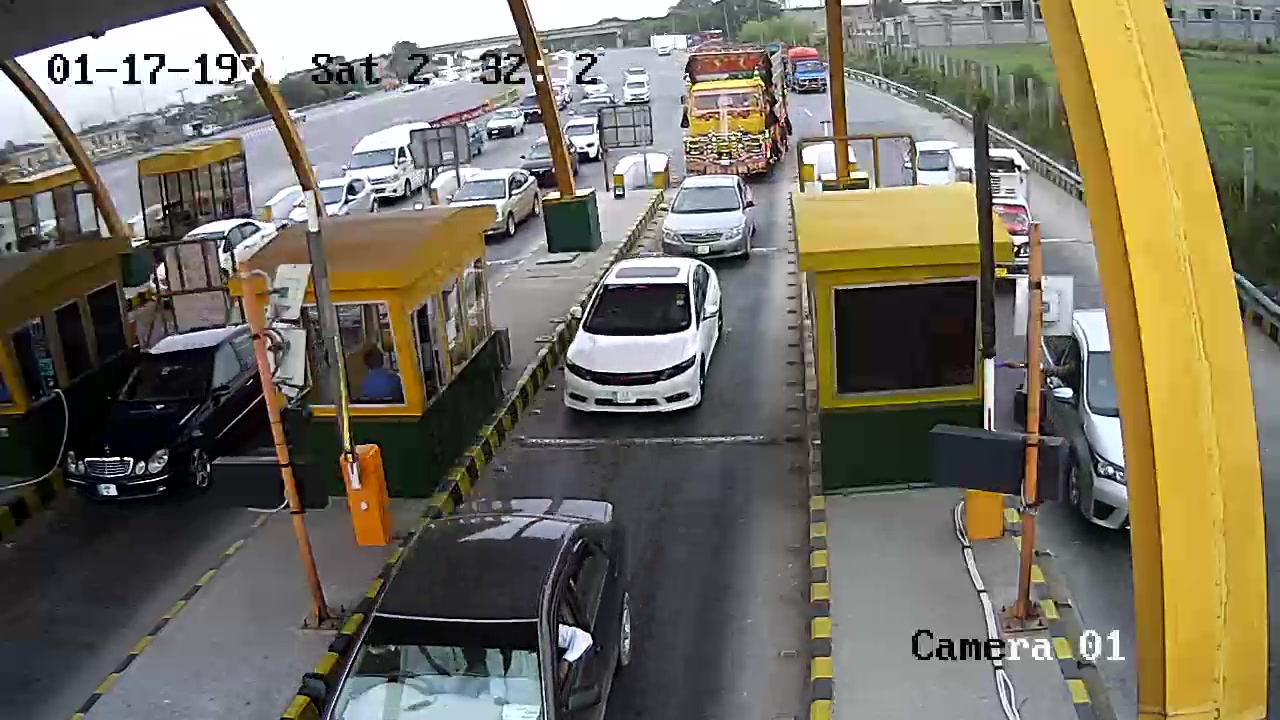F1: (545, 256, 742, 430)
